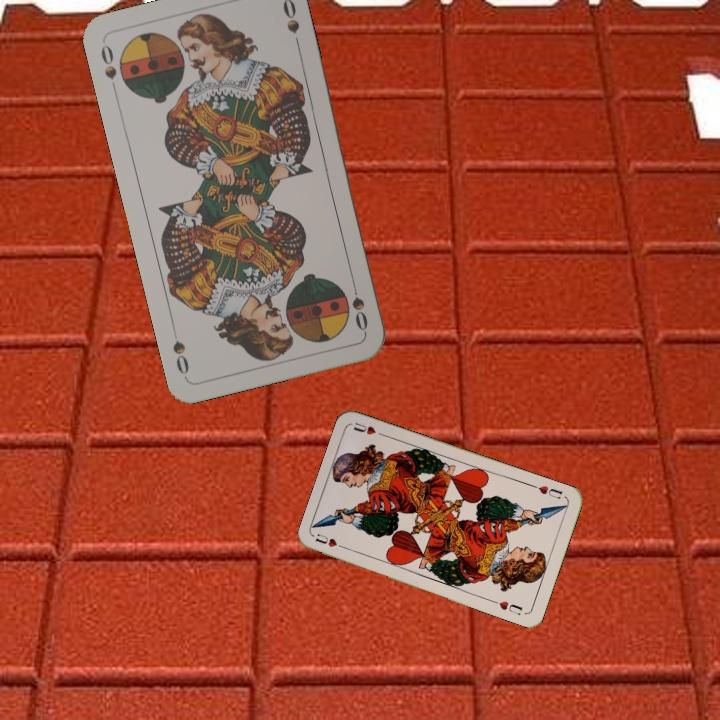HU: (311, 529, 350, 553), (528, 481, 565, 502)
SO: (347, 276, 371, 334), (97, 40, 120, 97)
